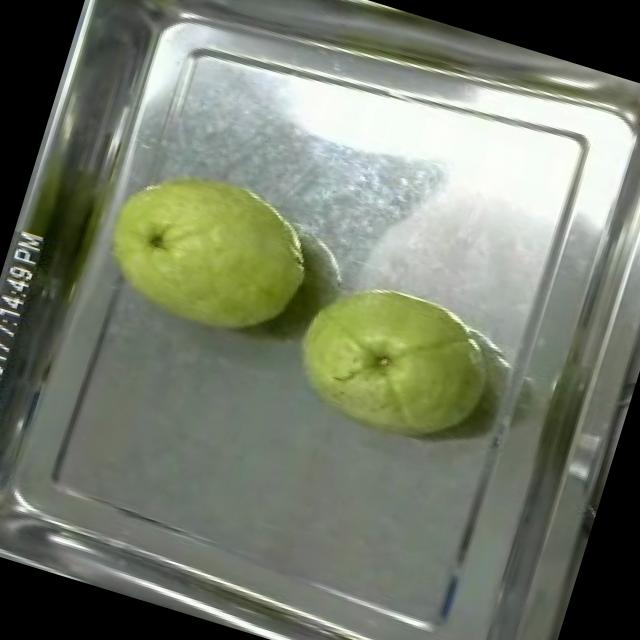Fruit: (76, 140, 332, 362), (269, 254, 512, 469)
